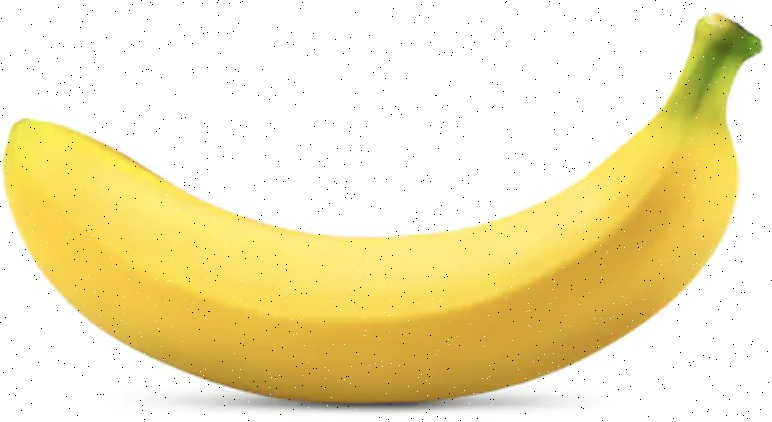fresh_banana: (5, 17, 762, 406)
